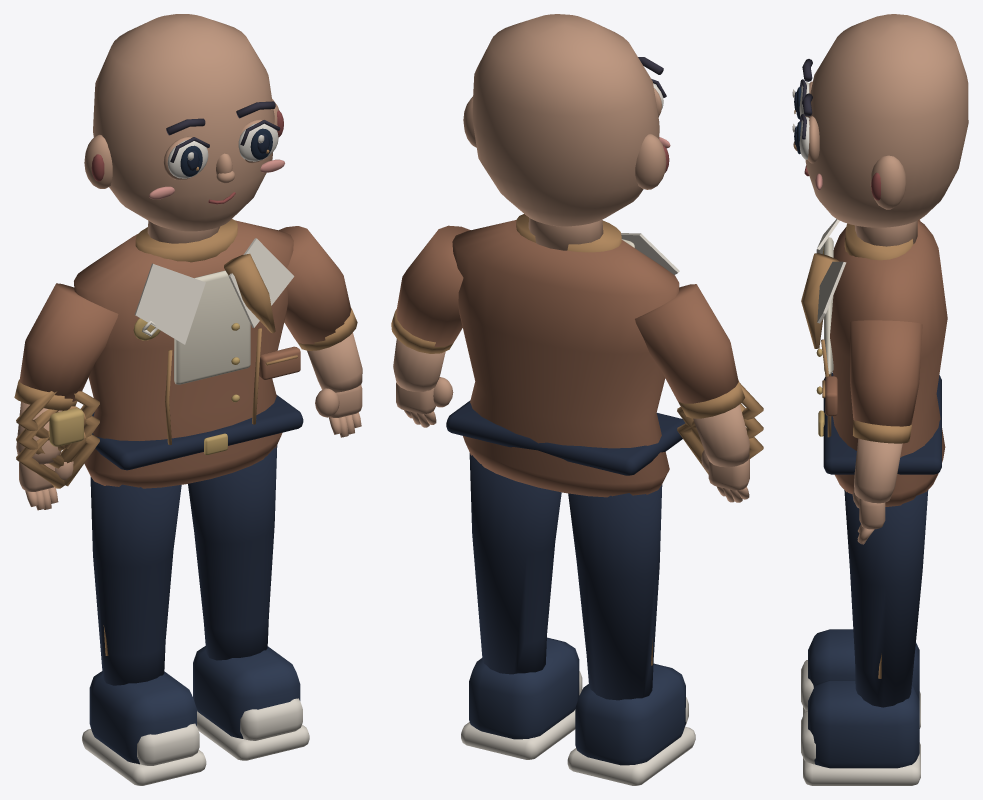
The model's file is npc_survivalridge_trainer_1.glb.
3 renders of one model, left to right at view 1: azimuth 30°, elevation 25°; view 2: azimuth 150°, elevation 25°; view 3: azimuth 270°, elevation 25°, orthographic. The views are drawn at different scales.
Parts seen in each view (by area): view 1: figure.068; view 2: figure.068; view 3: figure.068.
Boxes of the visible parts, <box> form: figure.068: <box>14,14,362,785</box>; figure.068: <box>391,14,763,785</box>; figure.068: <box>792,14,968,785</box>.
Bounding box in the file's own units: 0.8119 × 1.58 × 0.3494.
